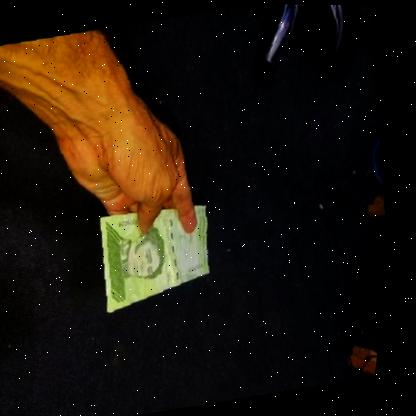vef_front: (95, 201, 225, 315)
